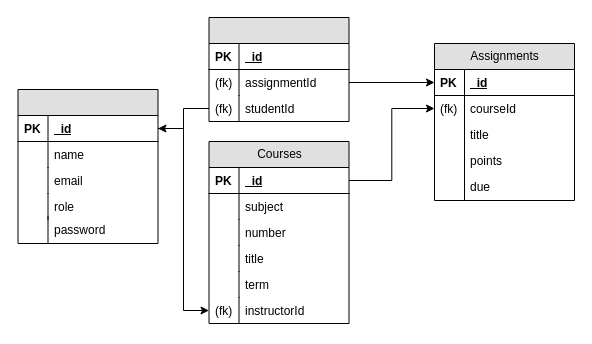
This 592x344 diagram has some shape labels left out. Here are the shapes that lost their labels. From the top down, the box of each, then its label:
(208, 16, 349, 122): Submissions
(17, 88, 158, 244): Users
